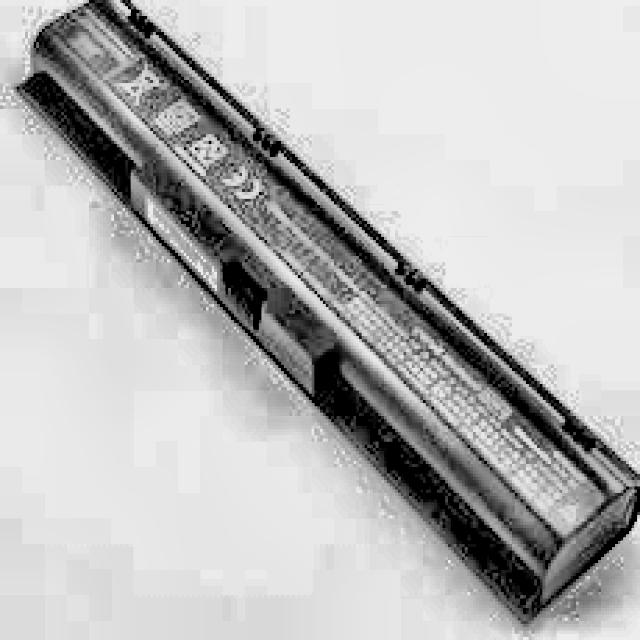Battery: (22, 0, 640, 621)
